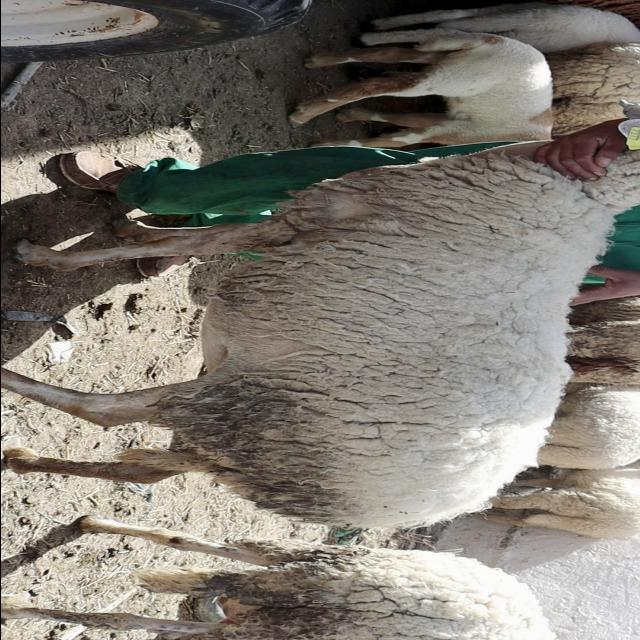Score_5: (1, 100, 640, 527)
